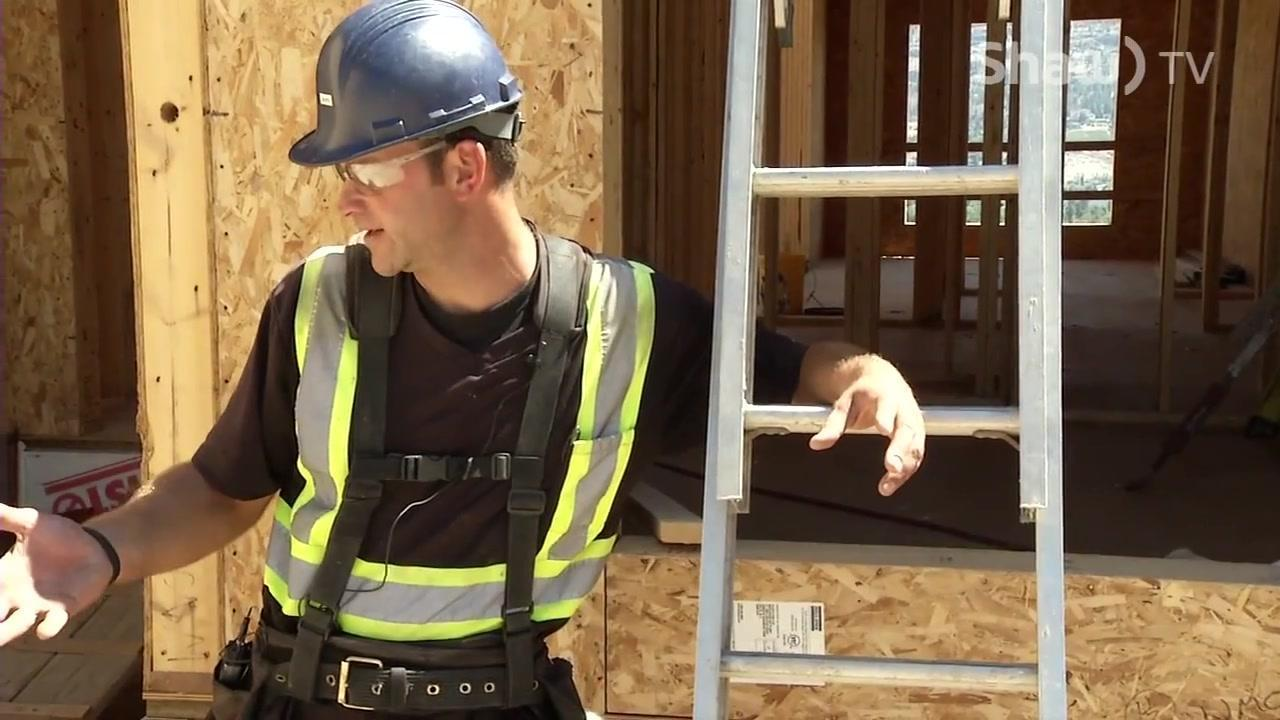vest: (256, 239, 659, 642)
